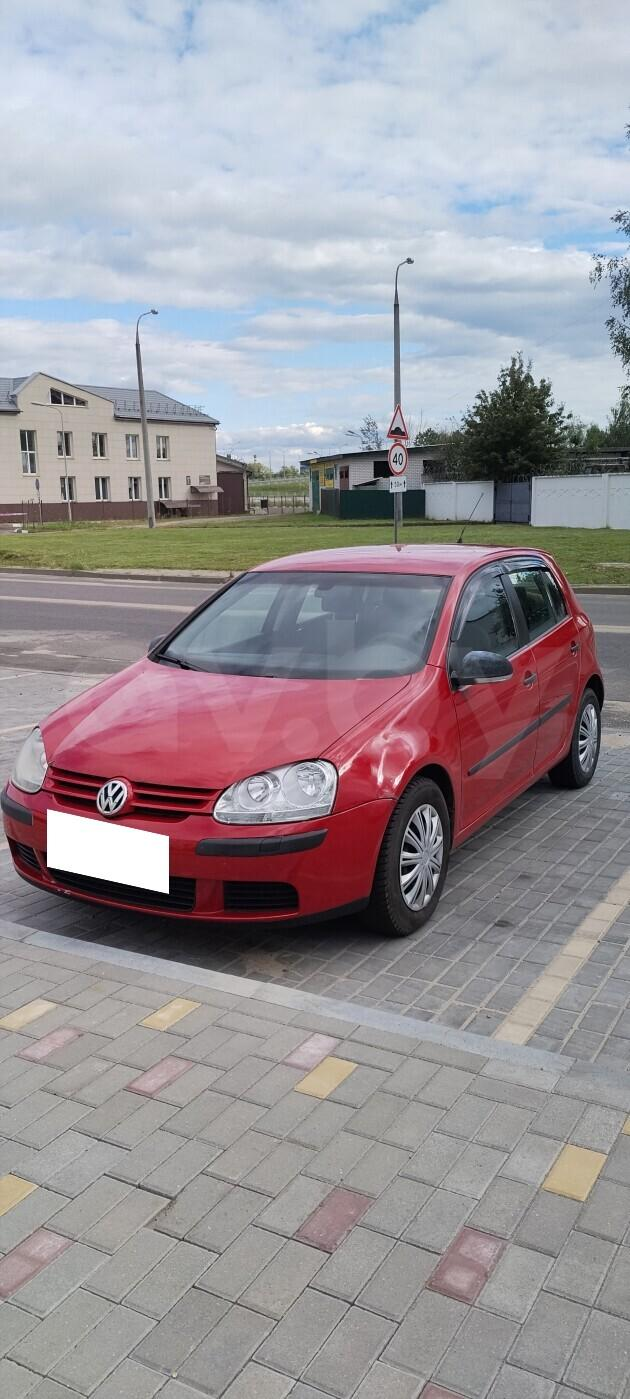Golf_2003-2009: (10, 540, 595, 946)
